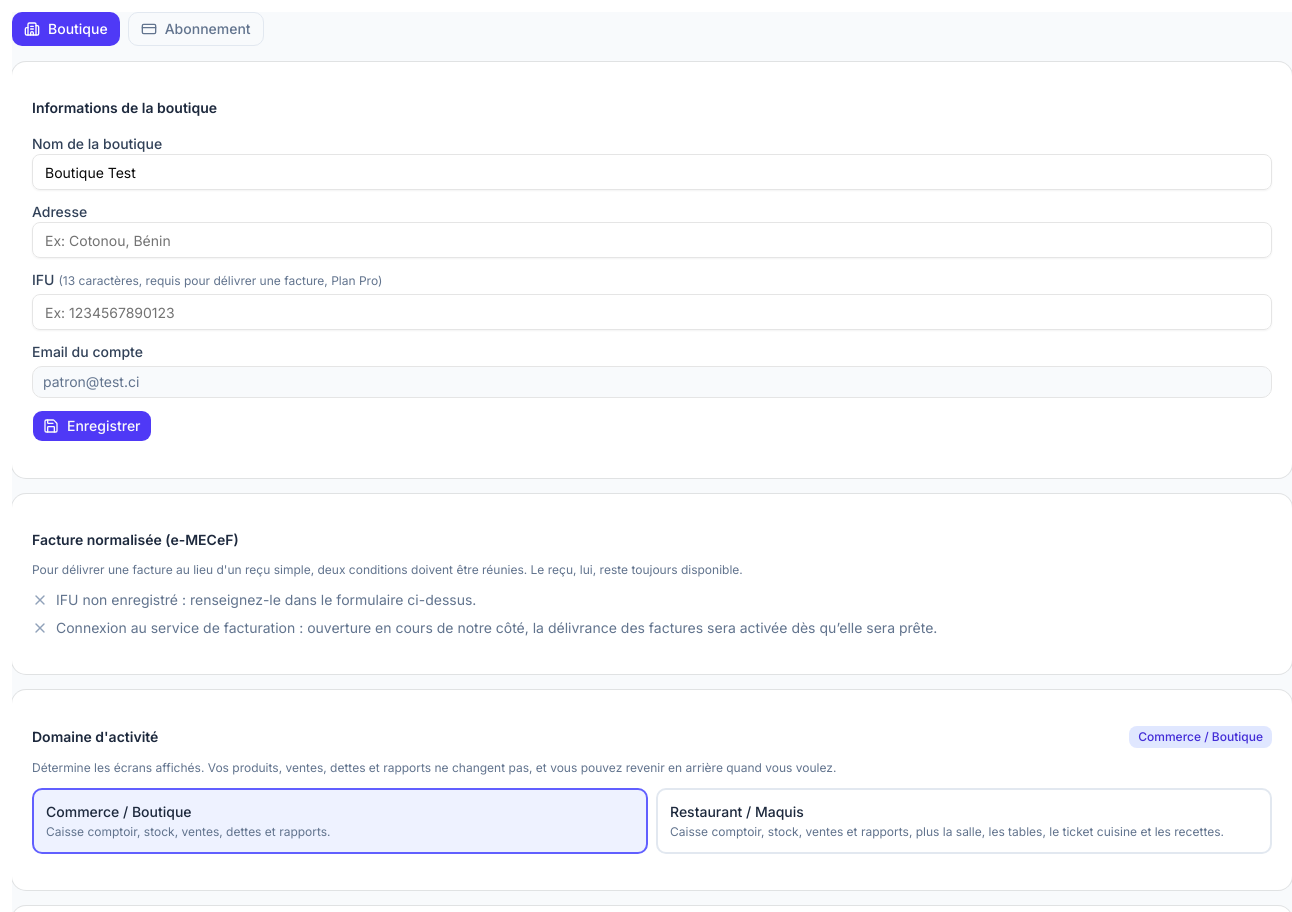
Essai de 14 jours — carte d’abonnement › expiré : dit les choses, et ne propose jamais un essai qui échouerait
The image size is (1292, 912).
Click the tab "Abonnement": [196, 29] box top-left (128, 12), bottom-right (264, 46)
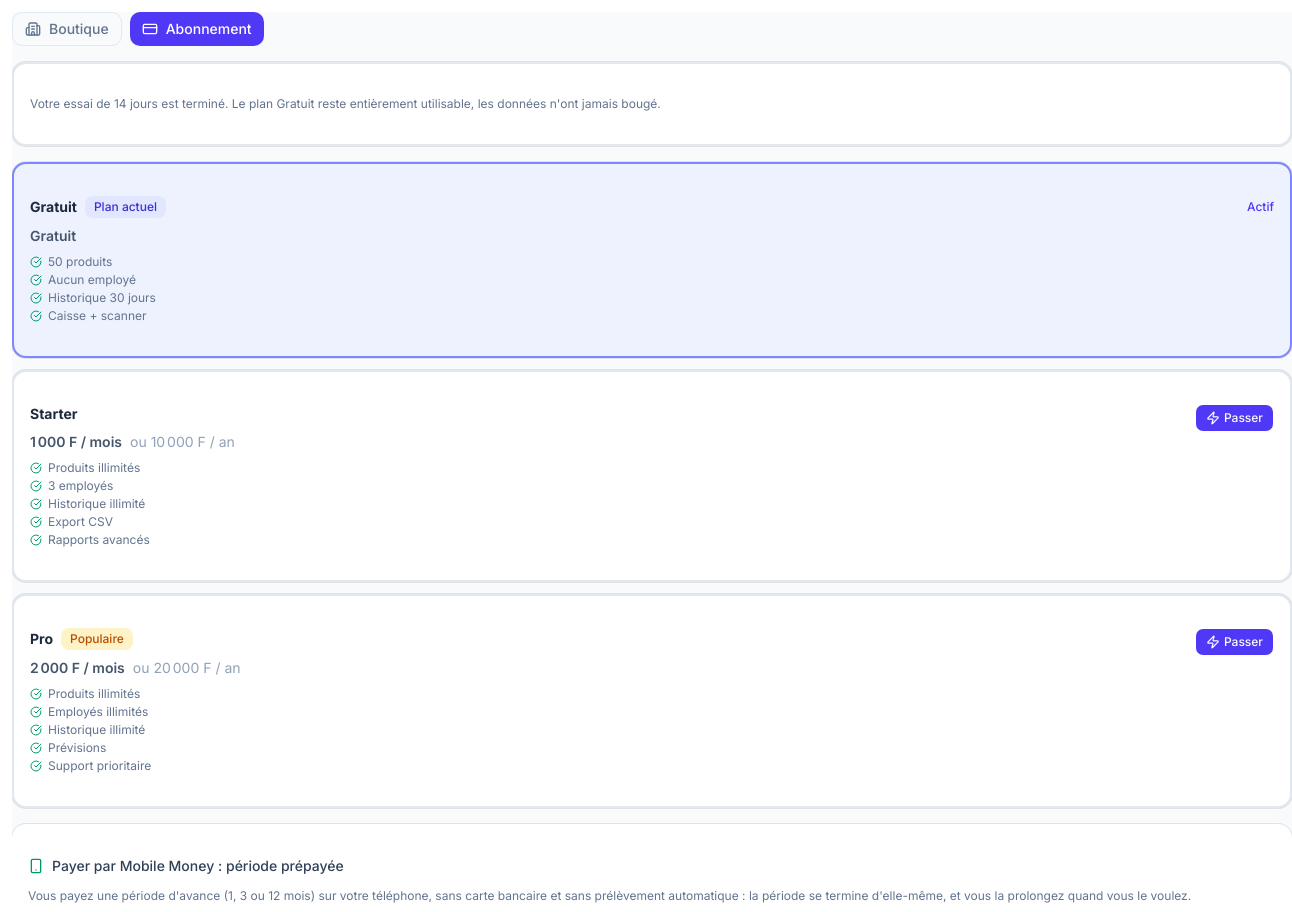
expect the text "Votre essai de 14 jours est terminé" is shown: met, box top-left (30, 96), bottom-right (661, 111)
